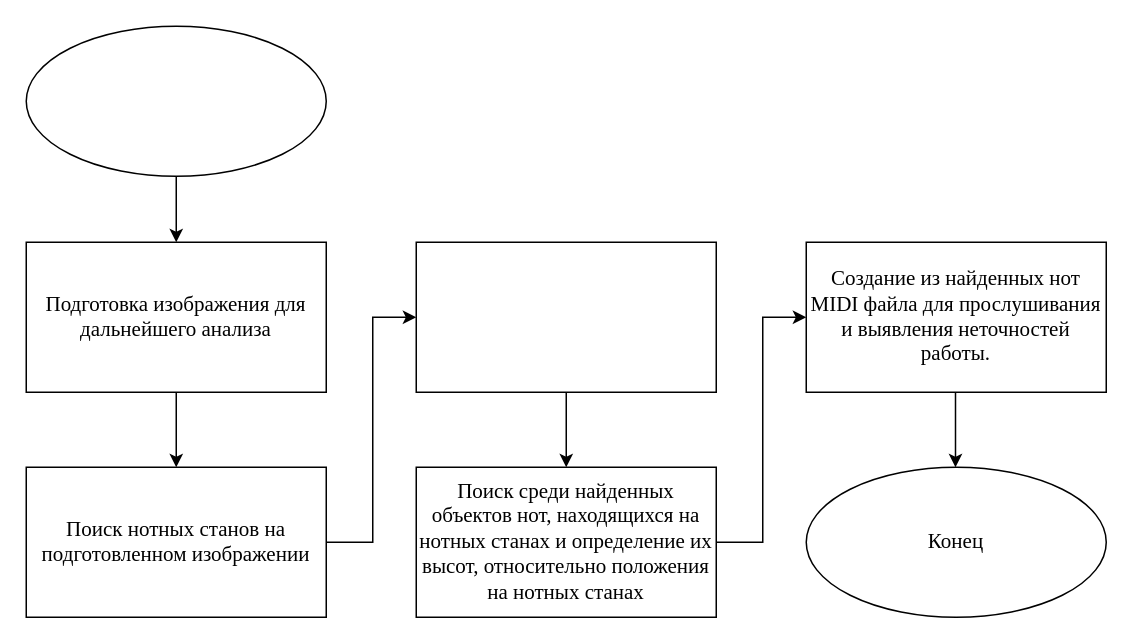
This 1133x644 diagram has some shape labels left out. Here are the shapes that lost their labels. From the top down, the centre of each, then its label:
At [175,100]: "Начало".
At [565,316]: "Поиск на изображении объектов, похожих на ноту".
